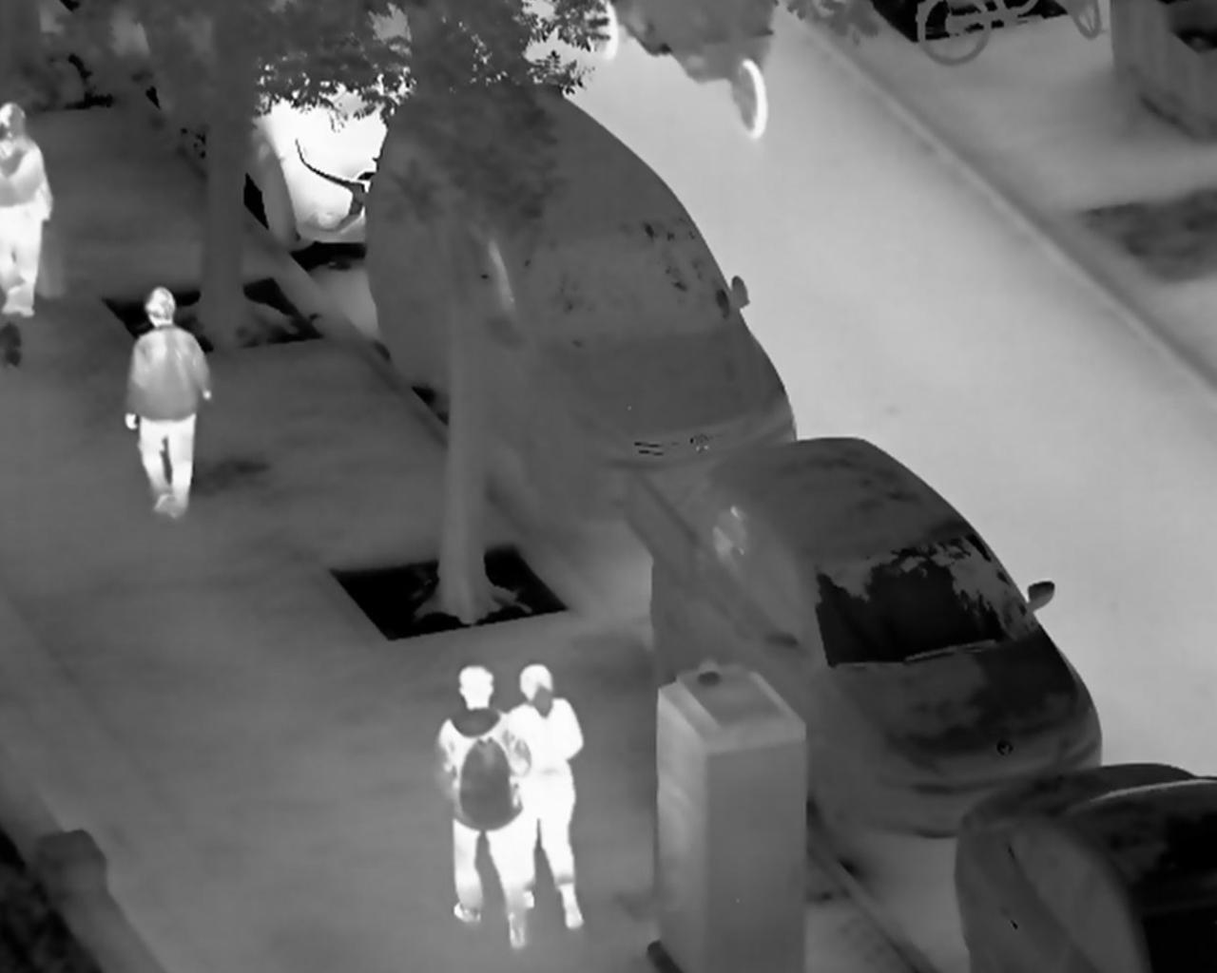person: (433, 660, 538, 952), (503, 660, 589, 929), (120, 283, 215, 524)
